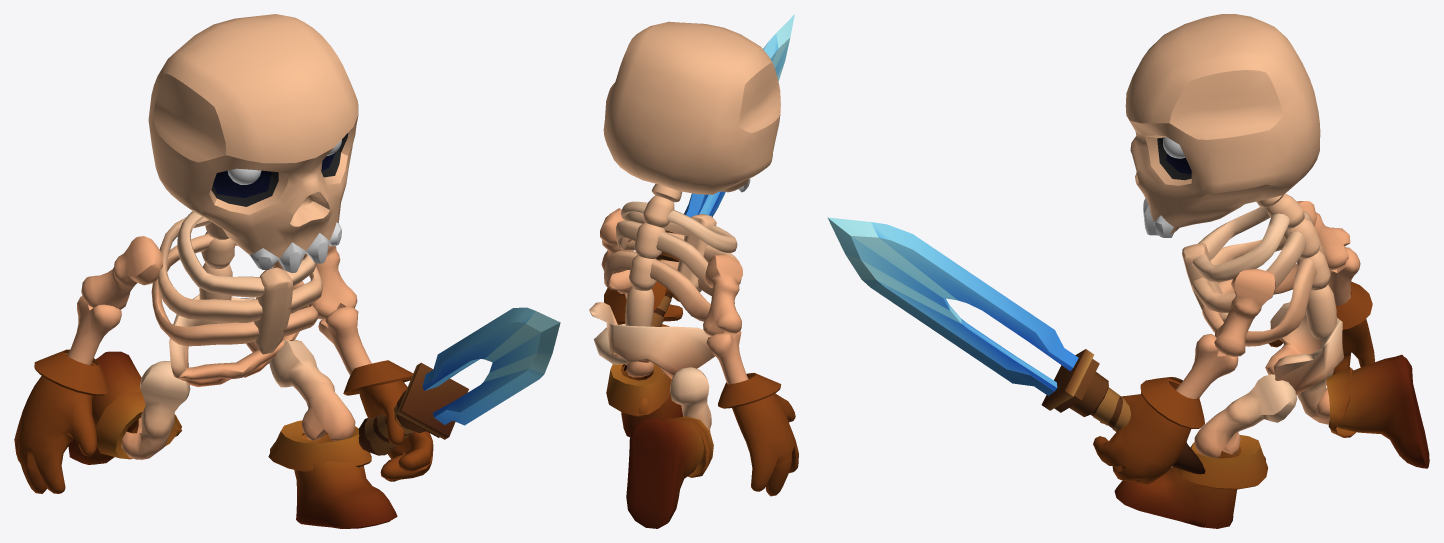
Rendered from skeleton_enemy.fbx.
The picture shows the model from 3 angles, left to right: view 1: azimuth 30°, elevation 25°; view 2: azimuth 150°, elevation 25°; view 3: azimuth 270°, elevation 25°; orthographic projection. The views are drawn at different scales.
Parts seen in each view (by area): view 1: Skeleton.002, Weapon_Dagger; view 2: Skeleton.002, Weapon_Dagger; view 3: Skeleton.002, Weapon_Dagger.
Part boxes in pixels (<box>): Skeleton.002: <box>14,14,433,528</box>; Weapon_Dagger: <box>358,307,560,455</box>; Skeleton.002: <box>589,21,798,528</box>; Weapon_Dagger: <box>622,14,794,370</box>; Skeleton.002: <box>1093,14,1429,528</box>; Weapon_Dagger: <box>827,217,1205,474</box>.
Size of the model in its own units: 87.04 by 135 by 159.
